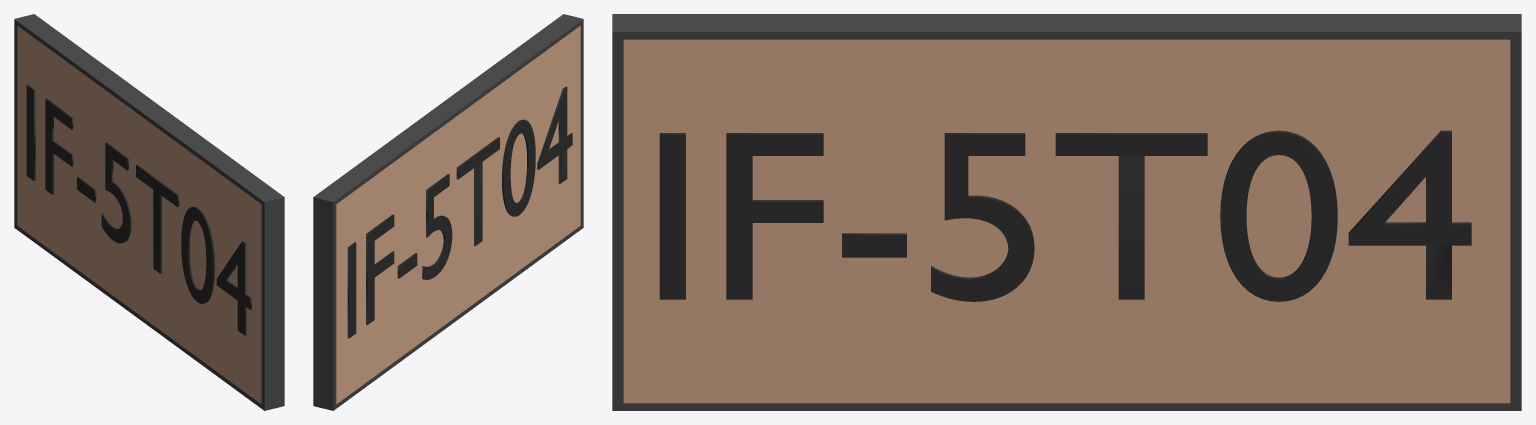
3 views of the same model, side by side, from view 1: azimuth 30°, elevation 25°; view 2: azimuth 150°, elevation 25°; view 3: azimuth 270°, elevation 25° (orthographic). The views are drawn at different scales.
Parts seen in each view (by area): view 1: Cube; view 2: Cube; view 3: Cube.
Part boxes in pixels (x1,y1,x2,y2): Cube: (14,14,284,410); Cube: (313,14,583,410); Cube: (612,14,1521,410).
Size of the model in its own units: 12.6 by 105 by 229.
